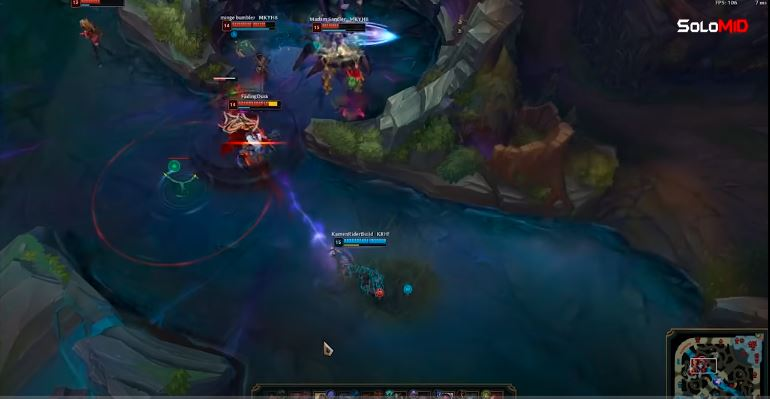bar: (332, 233, 389, 249), (309, 19, 369, 34), (220, 18, 276, 33), (226, 97, 285, 111)
w: (67, 1, 128, 9)
